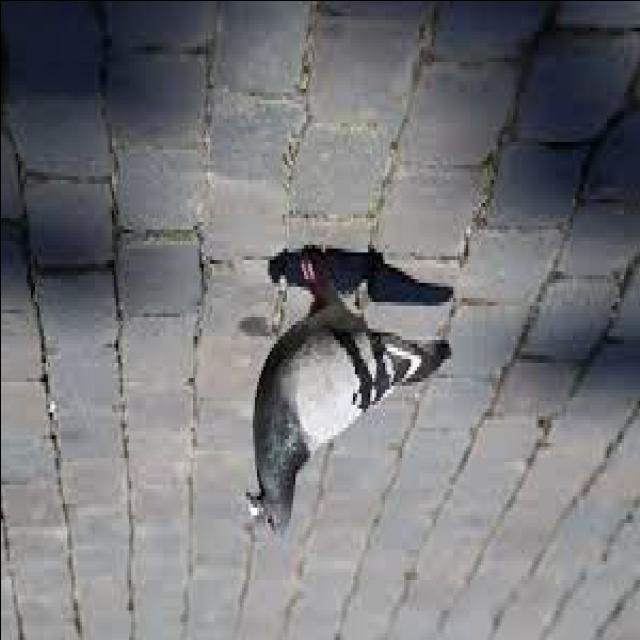pigeon: (222, 249, 458, 564)
